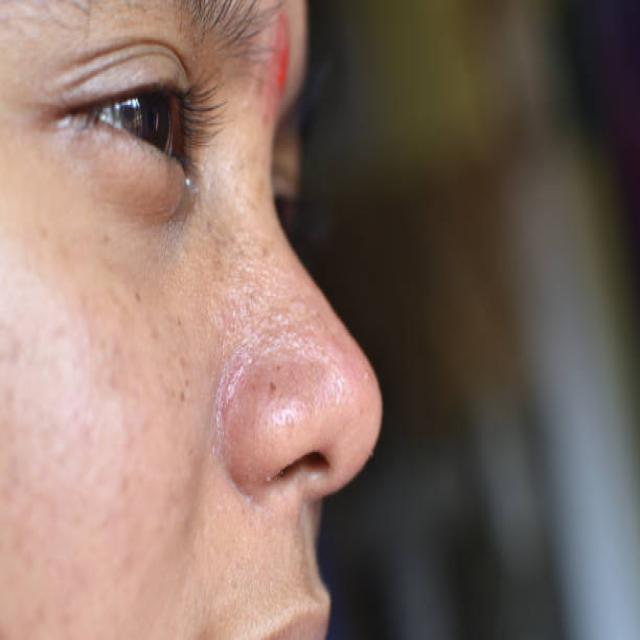Dry-Skin: (199, 198, 403, 342), (215, 288, 368, 468), (164, 0, 282, 192), (35, 123, 167, 293), (32, 305, 192, 384), (131, 495, 230, 622), (73, 430, 137, 519), (259, 92, 315, 115), (240, 567, 257, 612)
